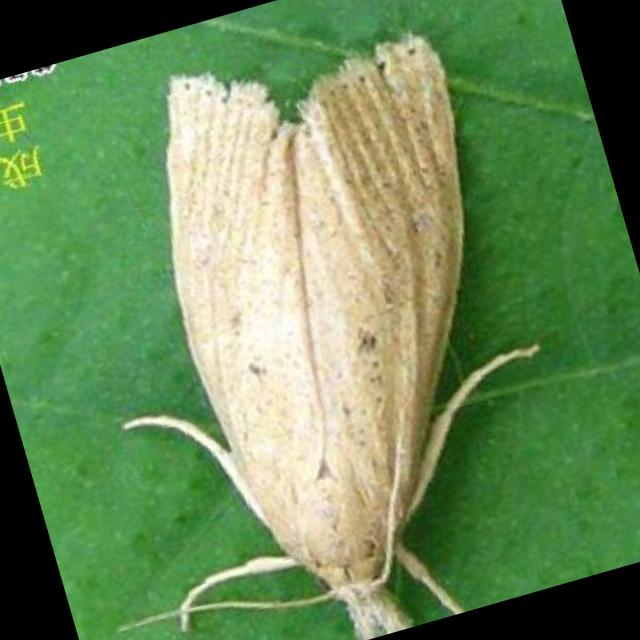stem-borer: (46, 0, 597, 640)
